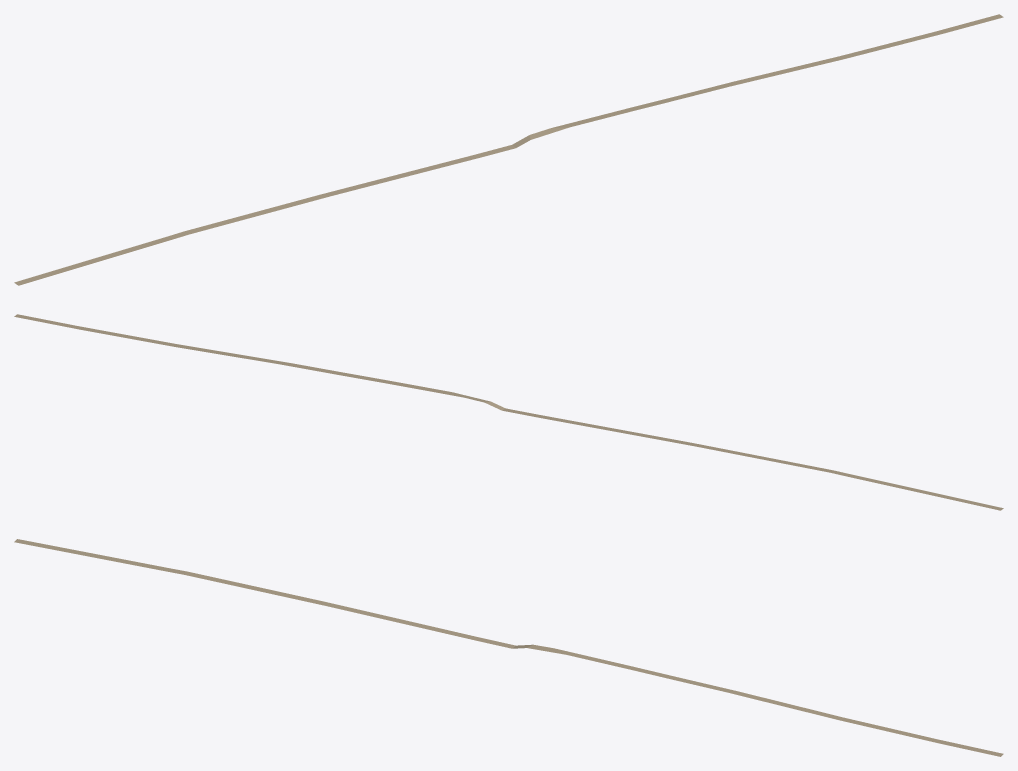
Rendered from farm_9_12_track.glb.
The picture shows the model from 3 angles, top to bottom: view 1: azimuth 30°, elevation 25°; view 2: azimuth 150°, elevation 25°; view 3: azimuth 330°, elevation 25°; orthographic projection. The views are drawn at different scales.
Visible parts, largest first — view 1: geometry_0; view 2: geometry_0; view 3: geometry_0.
Part boxes in pixels (left/top/right/bottom): geometry_0: left=14, top=14, right=1003, bottom=285; geometry_0: left=14, top=314, right=1003, bottom=510; geometry_0: left=14, top=539, right=1003, bottom=756.
Size of the model in its own units: 481 by 6.5 by 35.92.
